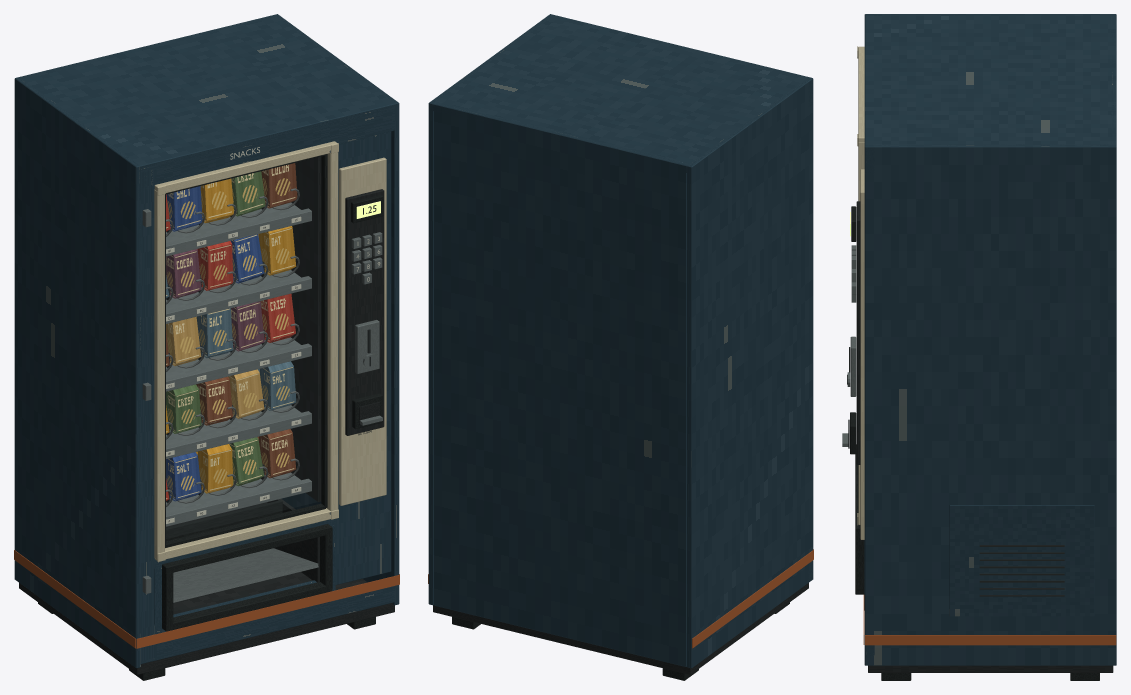
File: office_snack_machine.glb
The picture shows the model from 3 angles, left to right: view 1: azimuth 30°, elevation 25°; view 2: azimuth 150°, elevation 25°; view 3: azimuth 270°, elevation 25°; orthographic projection. The views are drawn at different scales.
Parts seen in each view (by area): view 1: mesh_01_blue_enamel_OPAQUE, mesh_wrapper_atlas_OPAQUE, mesh_03_brushed_metal_OPAQUE, mesh_04_interior_OPAQUE, mesh_02_ivory_enamel_OPAQUE, mesh_05_gaskets_OPAQUE, mesh_06_safety_band_OPAQUE, mesh_12_dispensing_coil_OPAQUE, mesh_08_label_OPAQUE; view 2: mesh_01_blue_enamel_OPAQUE, mesh_04_interior_OPAQUE, mesh_06_safety_band_OPAQUE; view 3: mesh_01_blue_enamel_OPAQUE, mesh_04_interior_OPAQUE, mesh_02_ivory_enamel_OPAQUE, mesh_06_safety_band_OPAQUE, mesh_05_gaskets_OPAQUE, mesh_07_print_OPAQUE, mesh_03_brushed_metal_OPAQUE.
Part boxes in pixels (box(x1,y1,x2,y2)): mesh_01_blue_enamel_OPAQUE: box(14, 14, 399, 668); mesh_wrapper_atlas_OPAQUE: box(166, 163, 297, 501); mesh_03_brushed_metal_OPAQUE: box(142, 150, 382, 602); mesh_04_interior_OPAQUE: box(19, 156, 394, 674); mesh_02_ivory_enamel_OPAQUE: box(154, 141, 386, 561); mesh_05_gaskets_OPAQUE: box(38, 154, 383, 680); mesh_06_safety_band_OPAQUE: box(14, 550, 399, 648); mesh_12_dispensing_coil_OPAQUE: box(166, 188, 299, 506); mesh_08_label_OPAQUE: box(166, 147, 380, 523); mesh_01_blue_enamel_OPAQUE: box(428, 14, 813, 668); mesh_04_interior_OPAQUE: box(433, 583, 808, 674); mesh_06_safety_band_OPAQUE: box(428, 549, 813, 648); mesh_01_blue_enamel_OPAQUE: box(864, 14, 1116, 665); mesh_04_interior_OPAQUE: box(848, 201, 1113, 672); mesh_02_ivory_enamel_OPAQUE: box(857, 46, 864, 539); mesh_06_safety_band_OPAQUE: box(863, 595, 1116, 645); mesh_05_gaskets_OPAQUE: box(850, 206, 1099, 680); mesh_07_print_OPAQUE: box(847, 347, 1064, 596); mesh_03_brushed_metal_OPAQUE: box(842, 56, 857, 446).
Size of the model in its own units: 1.01 by 1.9 by 0.871.
13 materials, 6 textured.
